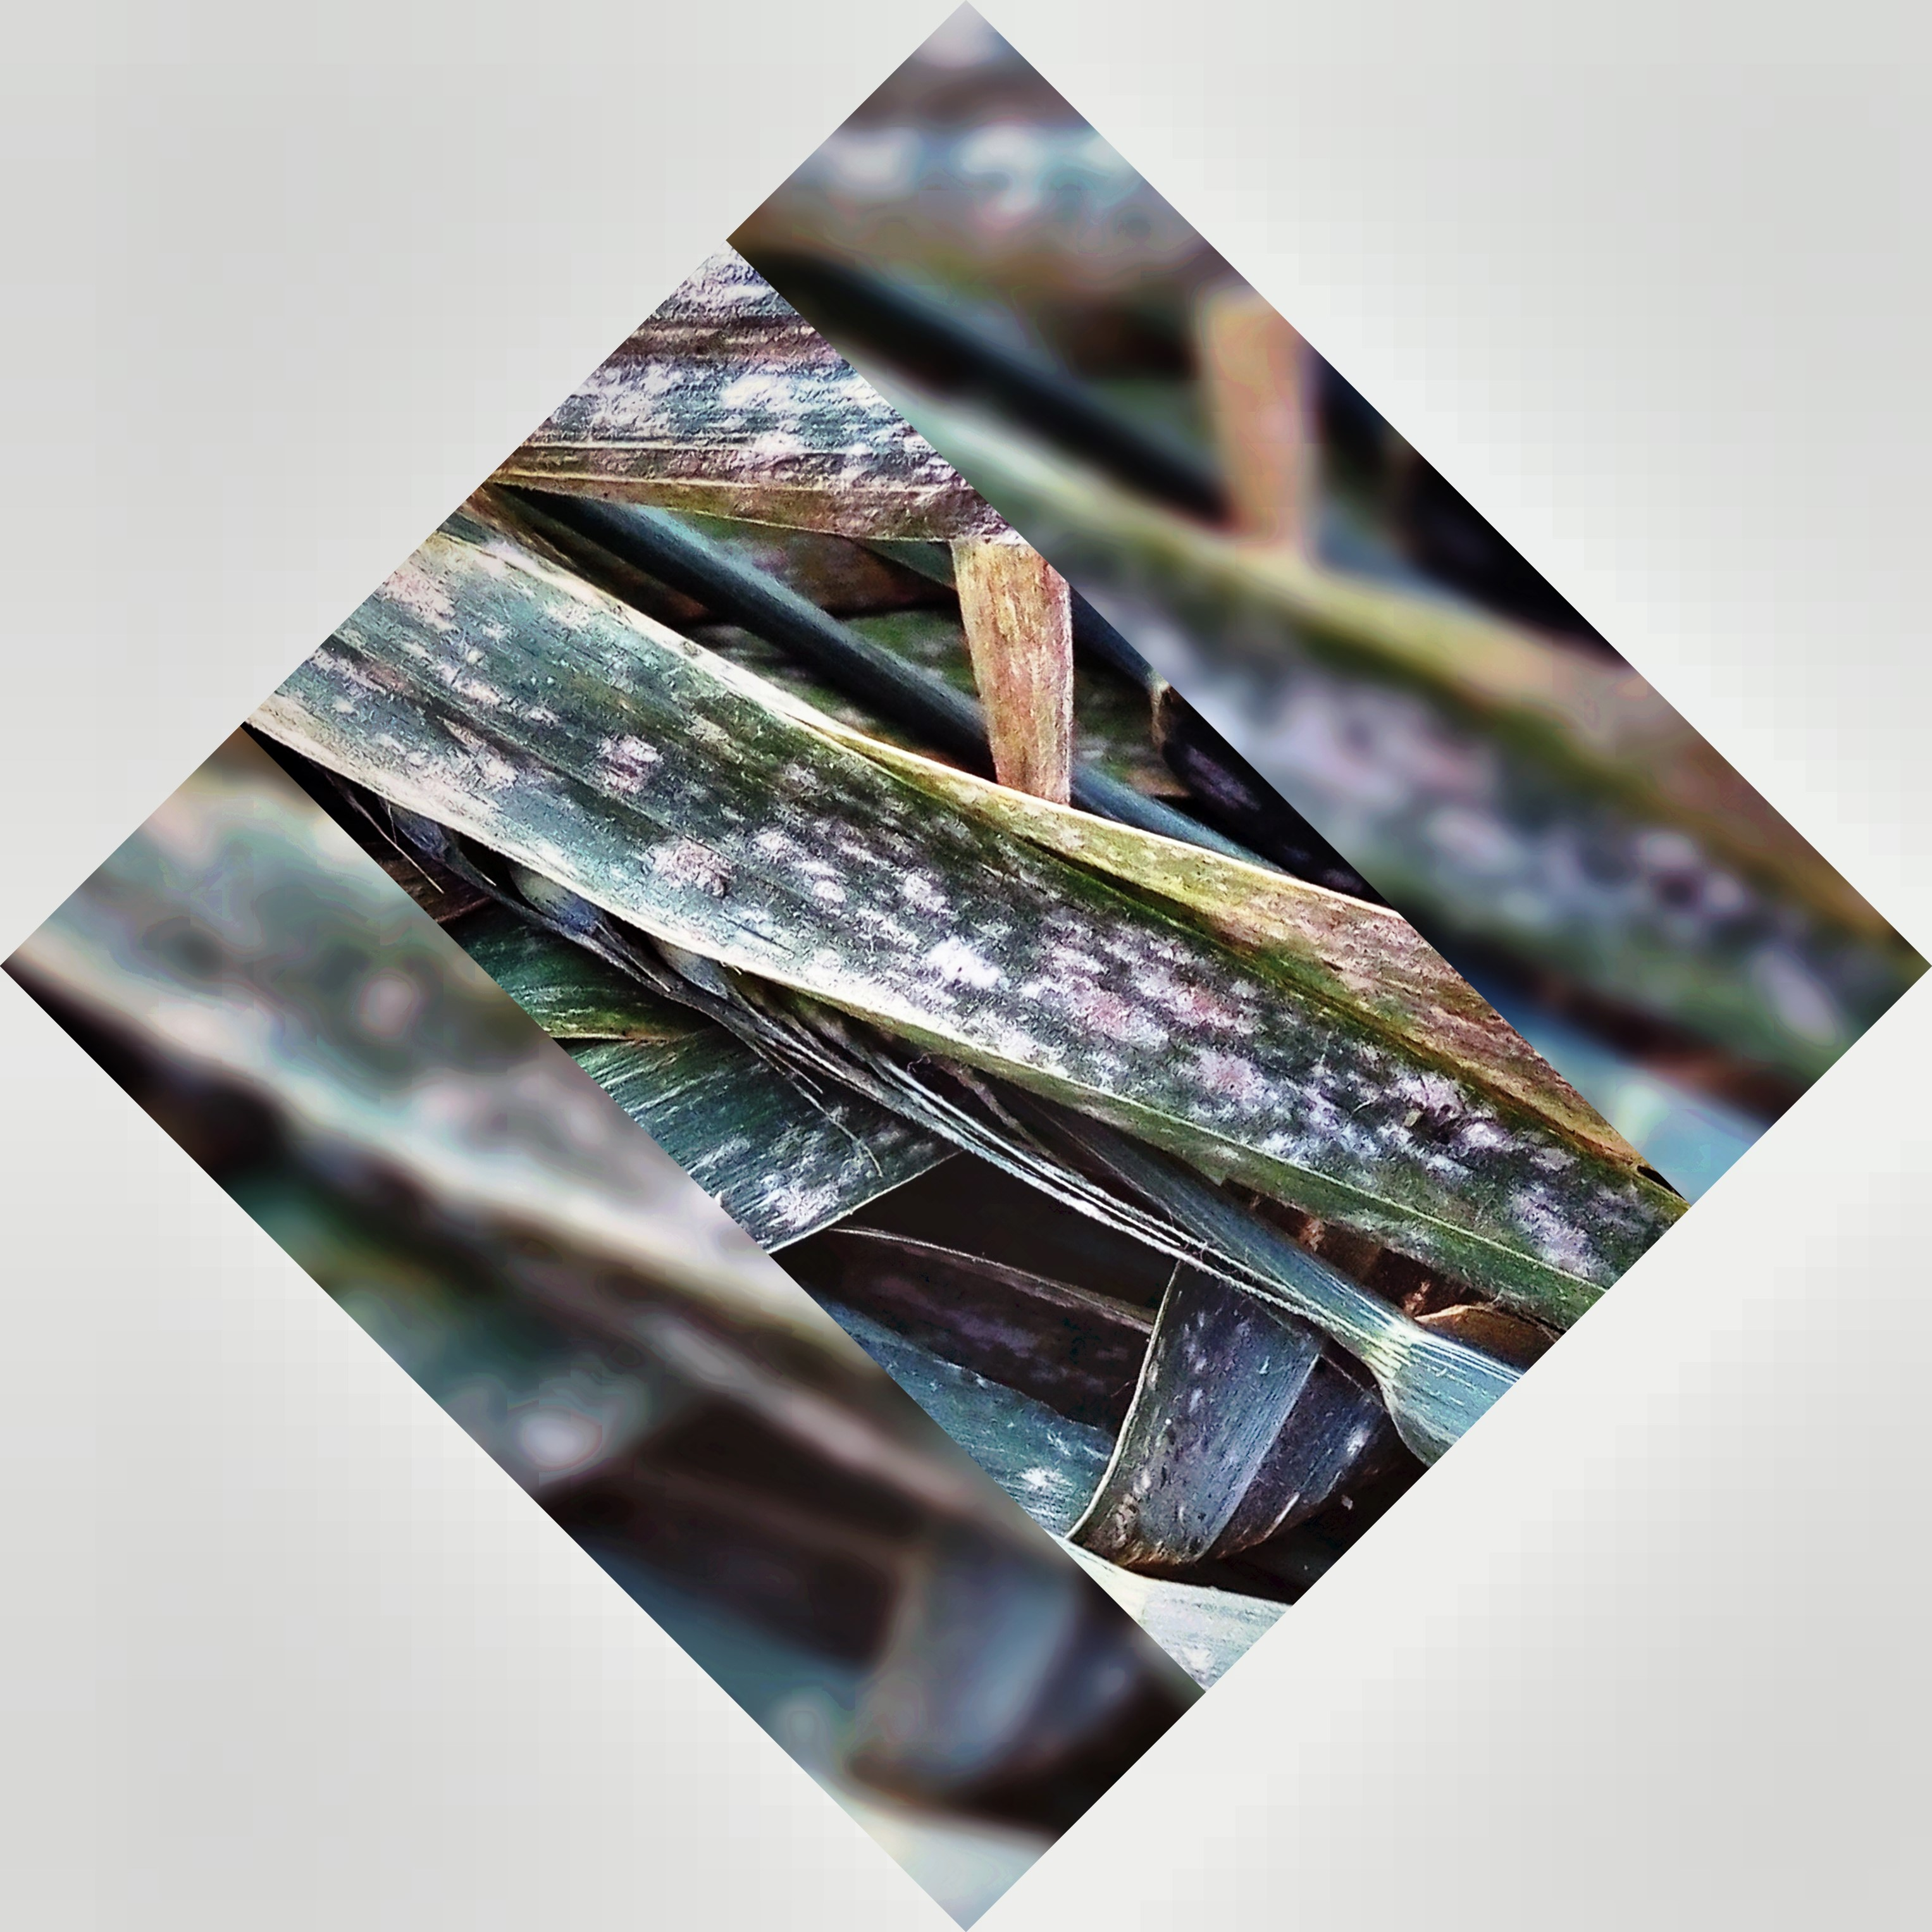Powdery Mildew: (472, 630, 1516, 1224)
